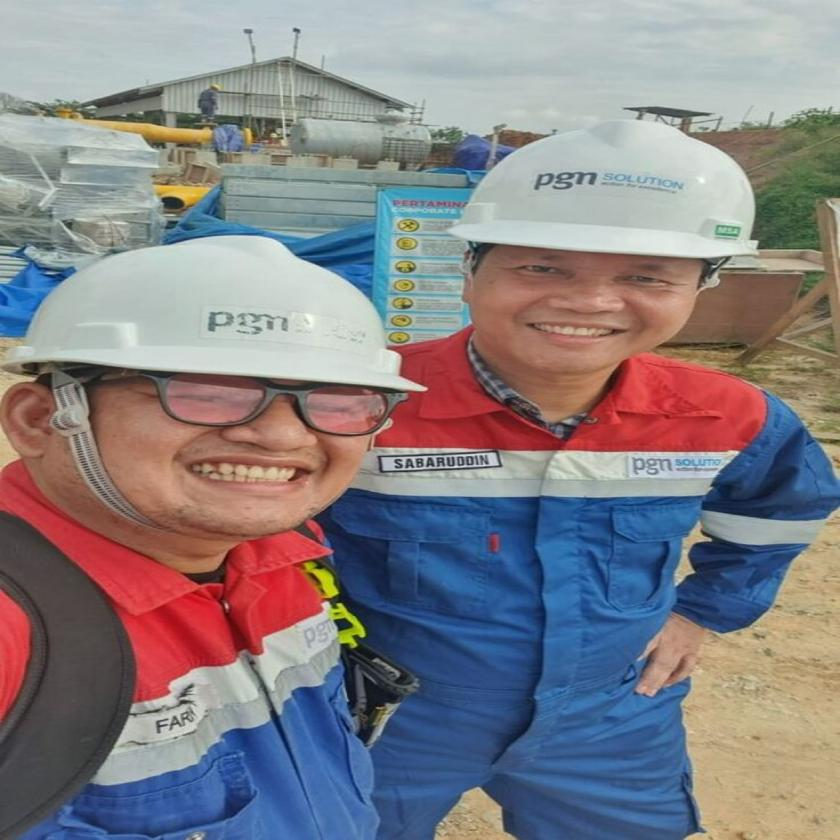Con_casco: (9, 234, 422, 564), (456, 119, 764, 387)
